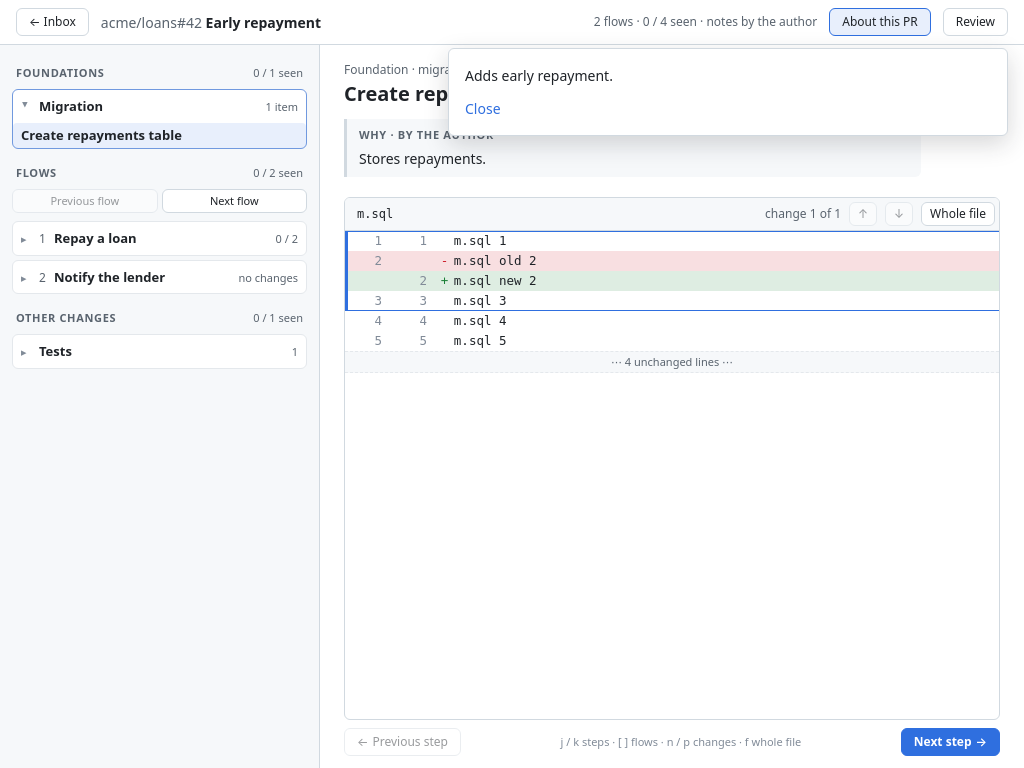
typed text across moves › a new comment keeps its selection and text after j and k
Expected: the text "m.sql new 2" is shown, [454,272,537,288]
Step 1. Click the button named "Comment on line 2" → (412, 280), box [390,270,435,290]
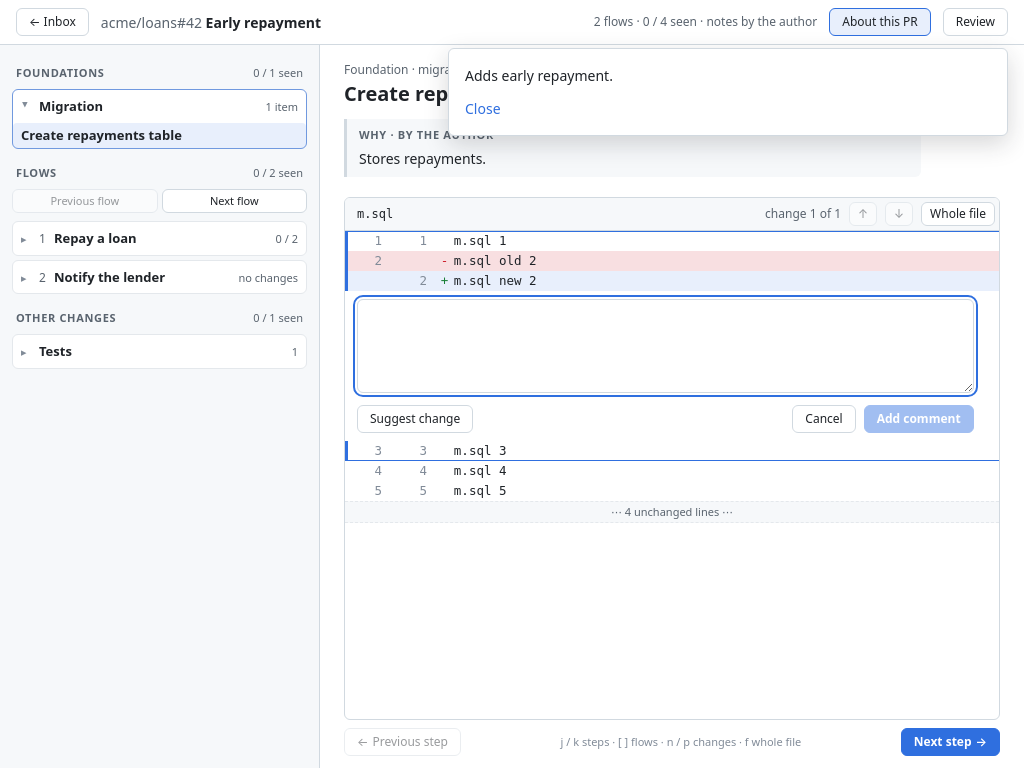
Step 2. Click the button named "Comment on line 3" → (412, 450), box [390,440,435,460]
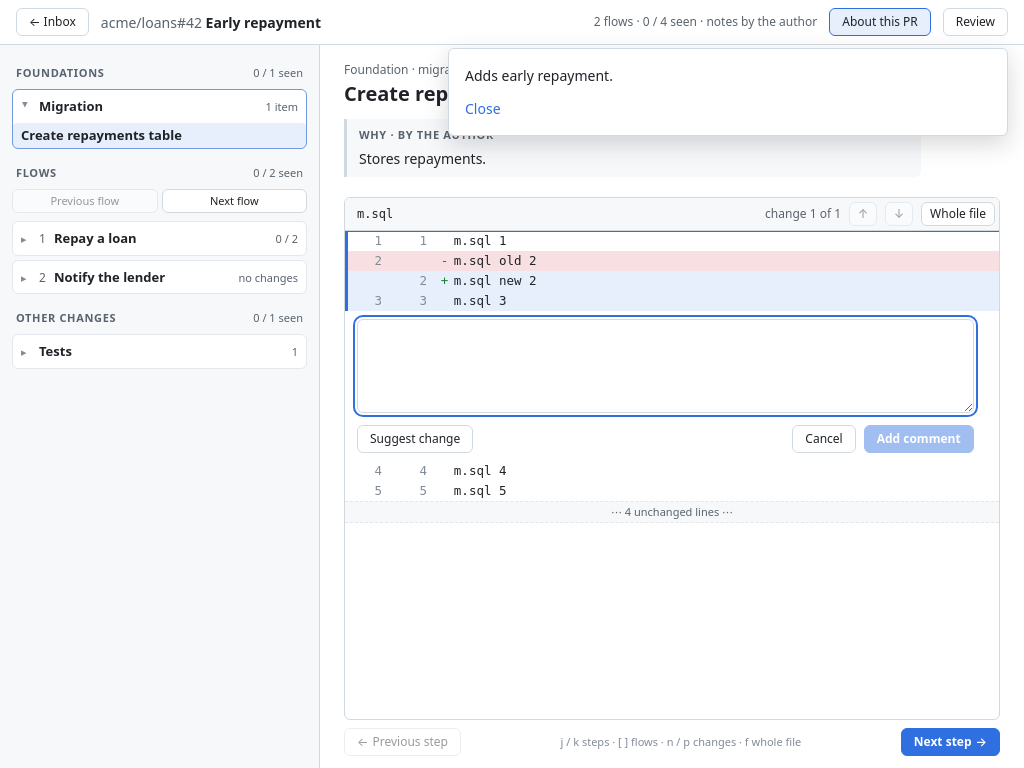
Step 3. Type "Half a thought" into the text box named "Comment on m.sql" → (665, 366), box [357,318,974,412]
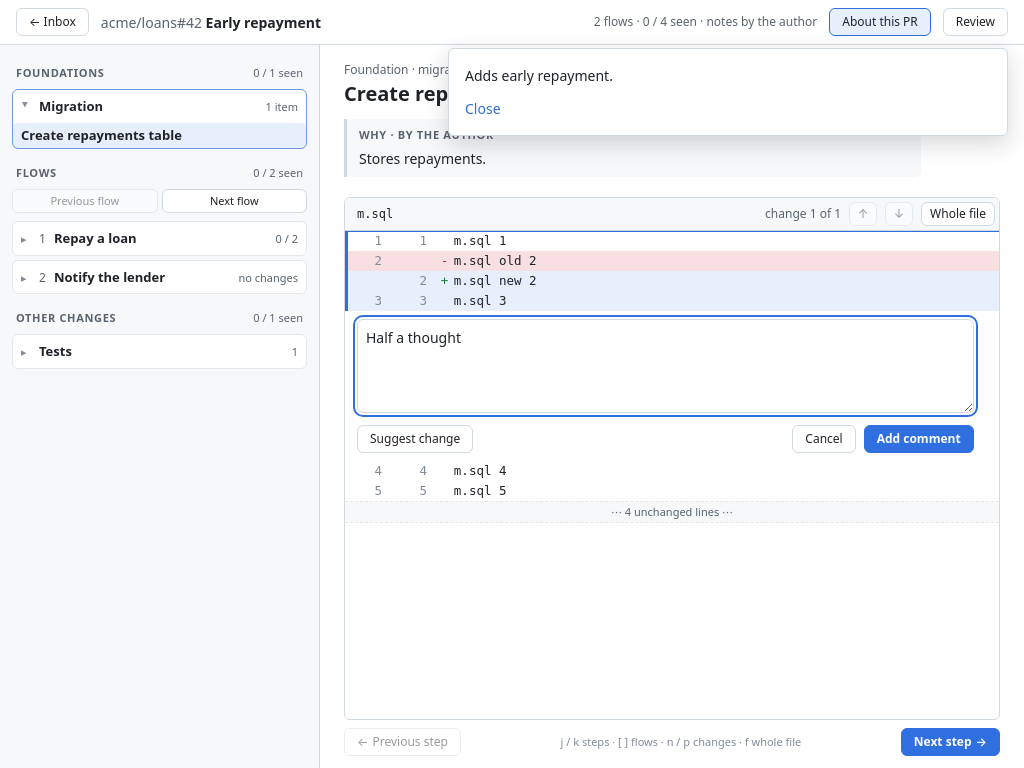
Step 4. Press j
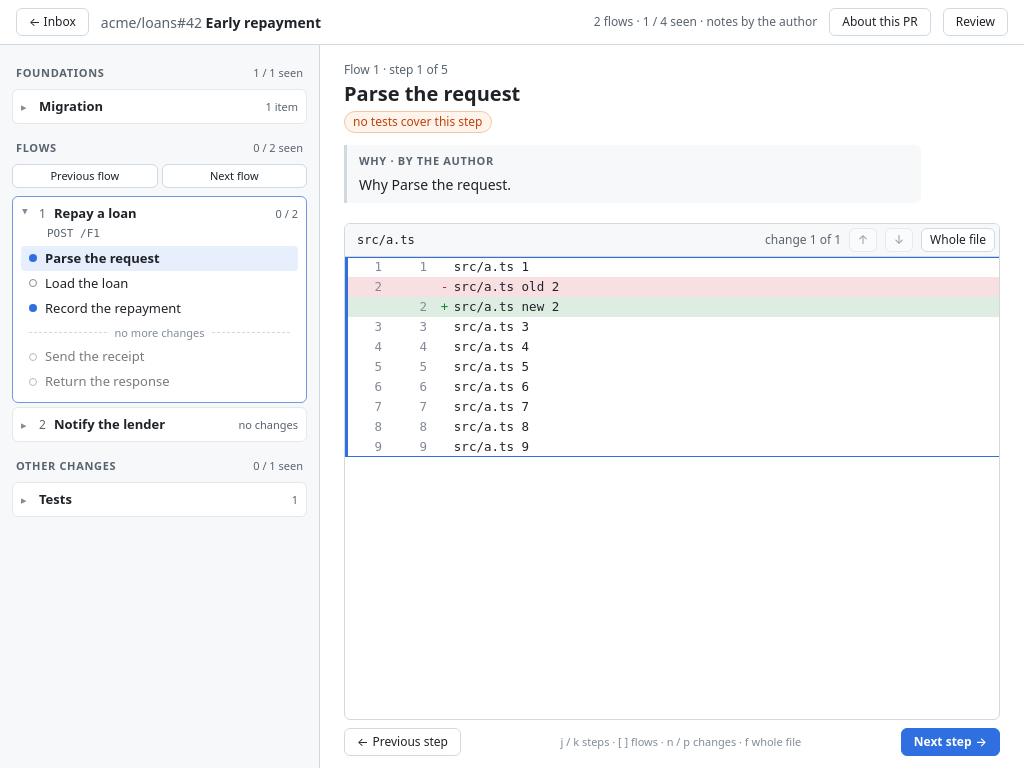
Result: the text "src/a.ts new 2" is shown at [454,298,559,314]
Result: the text "m.sql new 2" is gone
Step 5. Press k
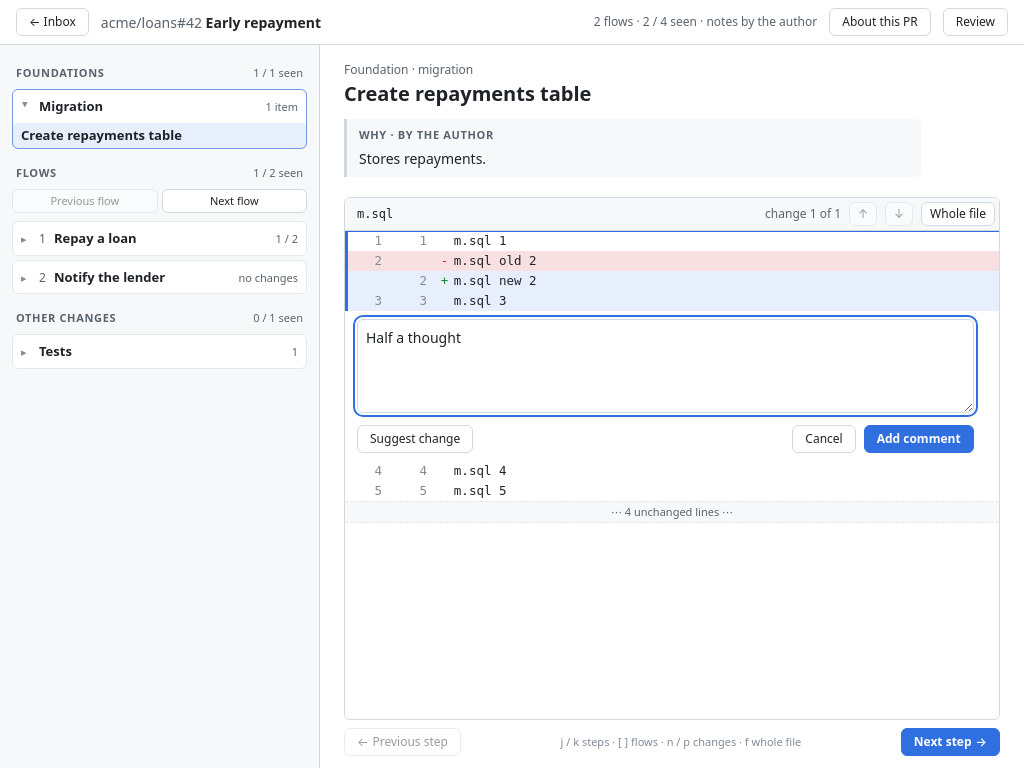
Result: the text "m.sql new 2" is shown at [454,272,537,288]
